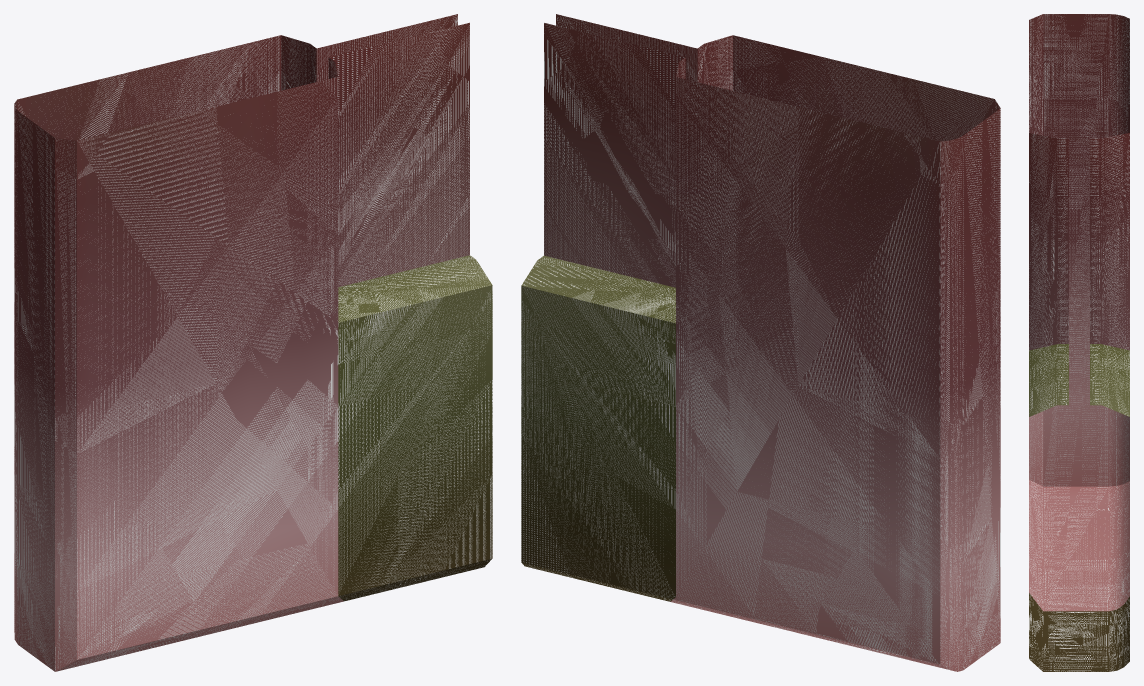
File: original-45.obj
3 renders of one model, left to right at view 1: azimuth 30°, elevation 25°; view 2: azimuth 150°, elevation 25°; view 3: azimuth 270°, elevation 25°, orthographic. The views are drawn at different scales.
Parts seen in each view (by area): view 1: RT_21_BL1/RT_21_BL/mesh36/mesh36-geometry#mesh36-geometry; view 2: RT_21_BL1/RT_21_BL/mesh36/mesh36-geometry#mesh36-geometry; view 3: RT_21_BL1/RT_21_BL/mesh36/mesh36-geometry#mesh36-geometry.
Part boxes in pixels (bbox=[...]): RT_21_BL1/RT_21_BL/mesh36/mesh36-geometry#mesh36-geometry: bbox=[14, 14, 492, 671]; RT_21_BL1/RT_21_BL/mesh36/mesh36-geometry#mesh36-geometry: bbox=[521, 14, 1000, 671]; RT_21_BL1/RT_21_BL/mesh36/mesh36-geometry#mesh36-geometry: bbox=[1029, 14, 1129, 671].
Bounding box in the file's own units: 0.1192 × 0.1416 × 0.0274.
